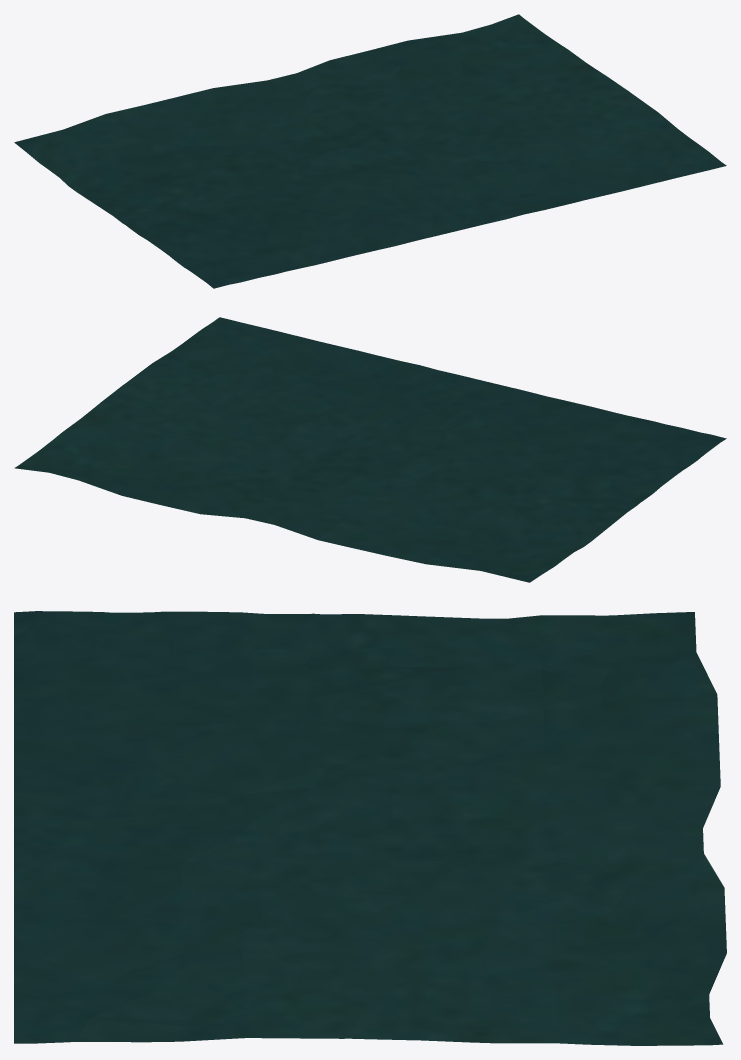
3 views of the same model, one above another, from view 1: azimuth 30°, elevation 25°; view 2: azimuth 150°, elevation 25°; view 3: azimuth 270°, elevation 25° (orthographic). The views are drawn at different scales.
Size of the model in its own units: 52.22 by 0.5385 by 36.84.
2 materials, 2 textured.
